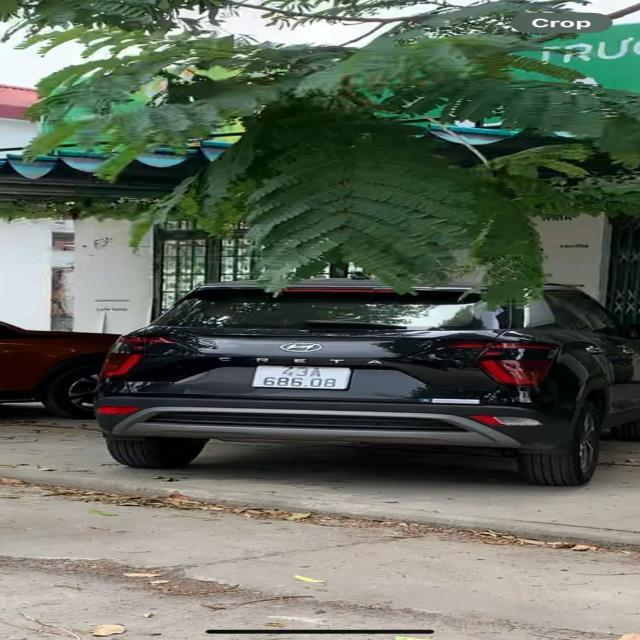car: (88, 254, 640, 489), (0, 331, 118, 425)
plate: (246, 360, 359, 399)
